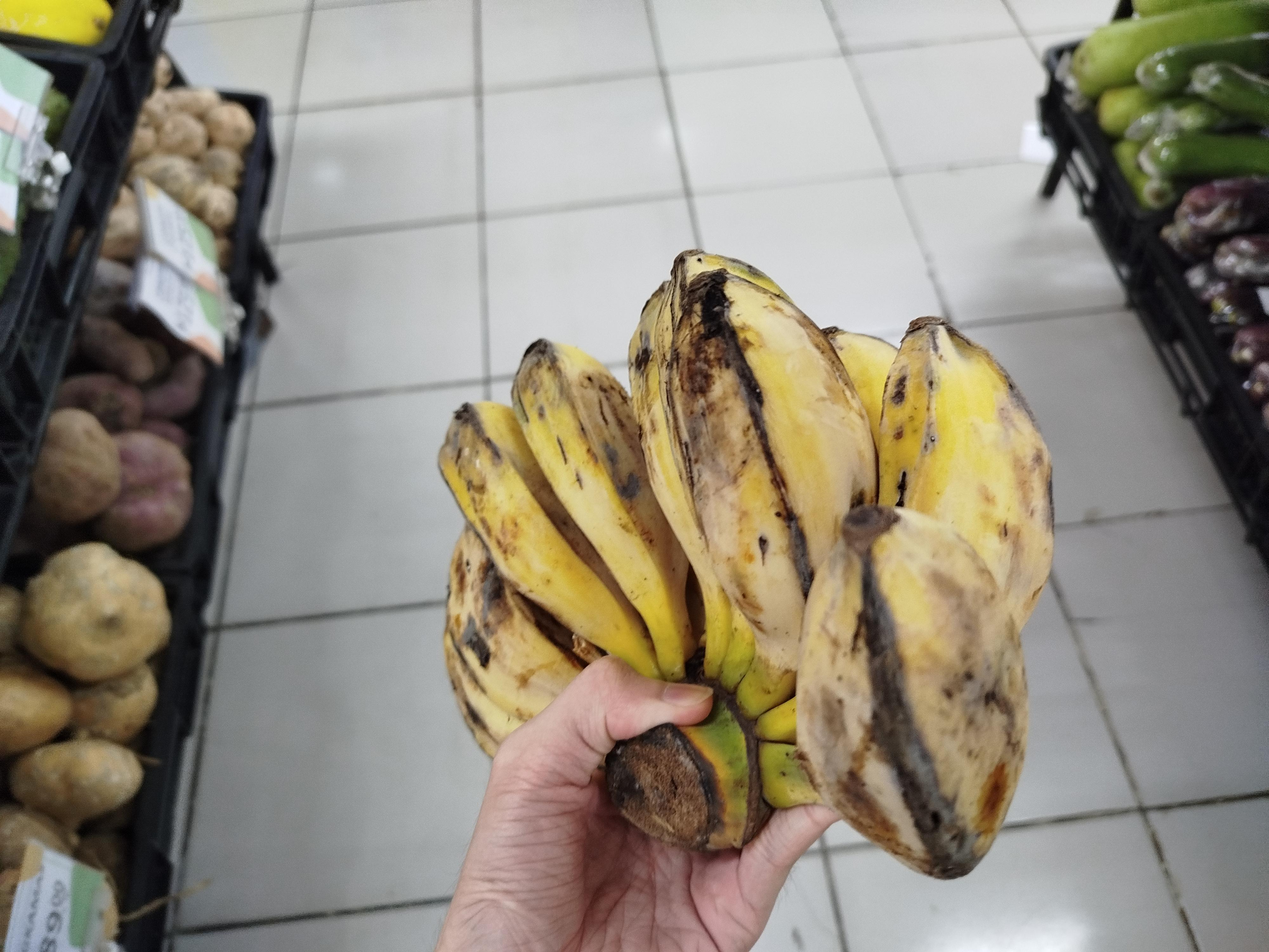ripe: (439, 251, 1051, 878)
